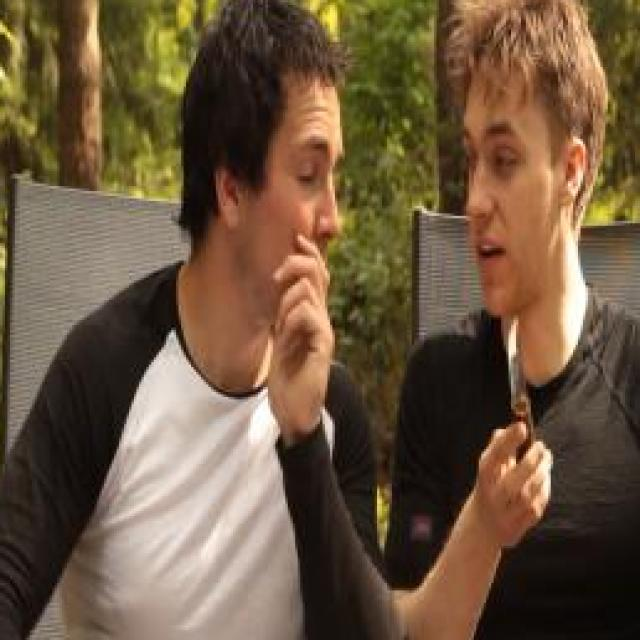knife: (470, 288, 558, 505)
